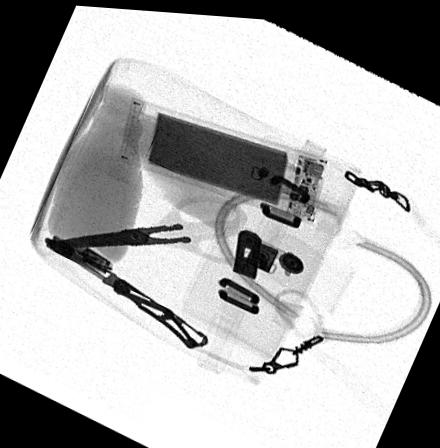Knife: (48, 236, 209, 347)
Powerbank: (115, 94, 326, 221)
Scissors: (53, 191, 260, 262)
